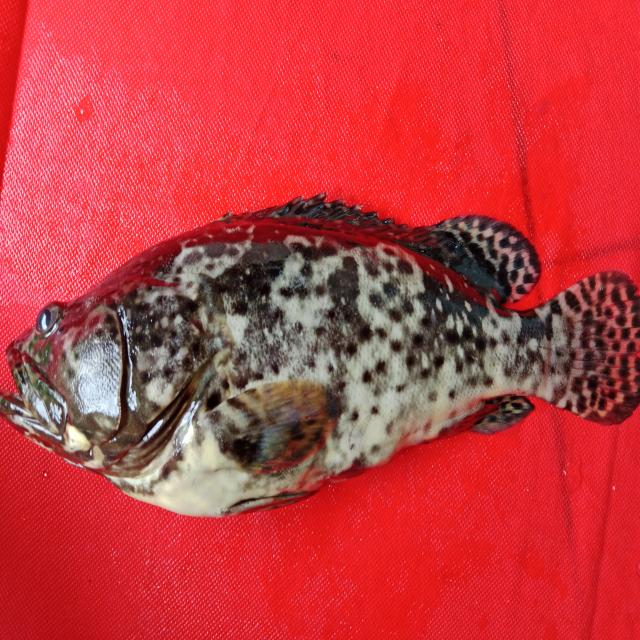ikan: (9, 175, 632, 532)
